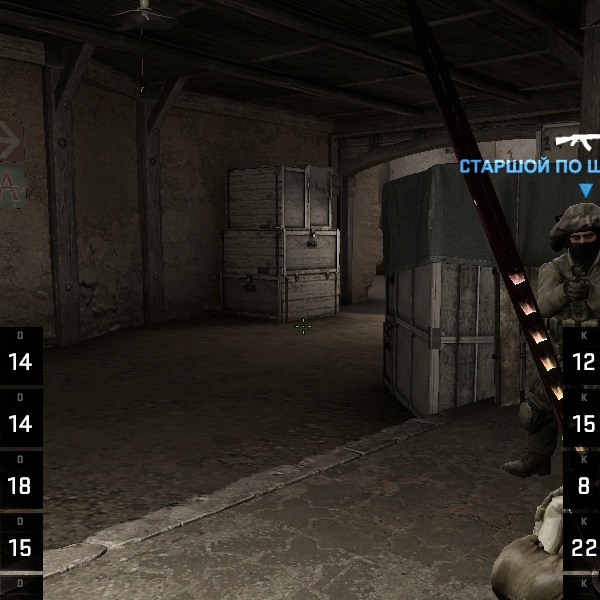ct_head: (546, 197, 600, 271)
